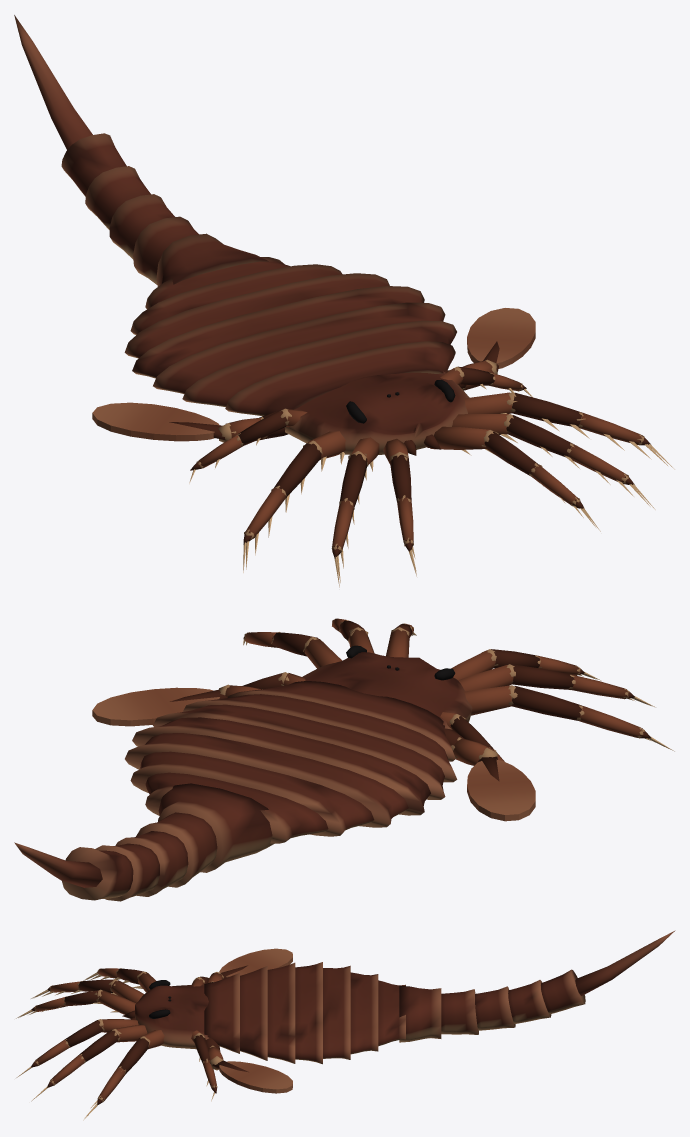
File: CarcinosomaNewlini.fbx
3 views of the same model, one above another, from view 1: azimuth 30°, elevation 25°; view 2: azimuth 150°, elevation 25°; view 3: azimuth 270°, elevation 25° (orthographic). The views are drawn at different scales.
Visible parts, largest first — view 1: CarcinosomaNewlini; view 2: CarcinosomaNewlini; view 3: CarcinosomaNewlini.
Boxes of the visible parts, box(x1,y1,x2,y2) form: CarcinosomaNewlini: box(14, 15, 674, 587); CarcinosomaNewlini: box(14, 618, 674, 901); CarcinosomaNewlini: box(16, 930, 675, 1120).
Bounding box in the file's own units: 1.03 × 0.4183 × 2.05.
